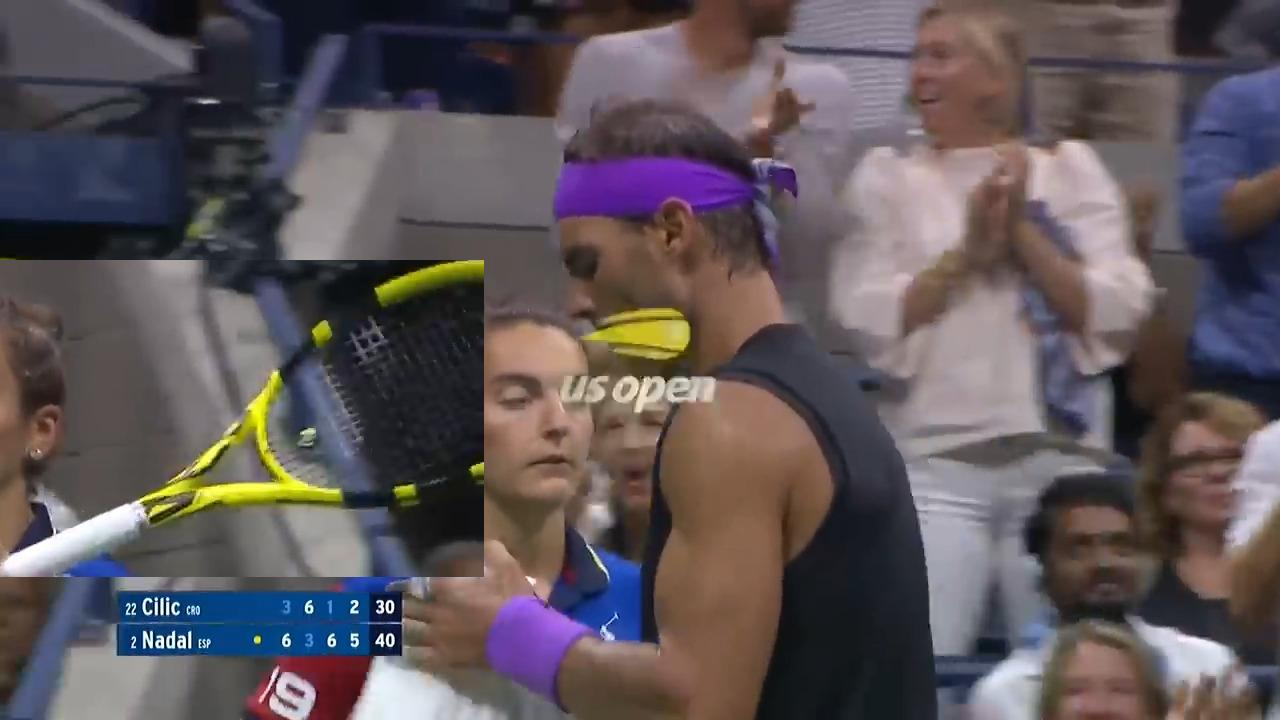tennis racket: (0, 260, 484, 577)
